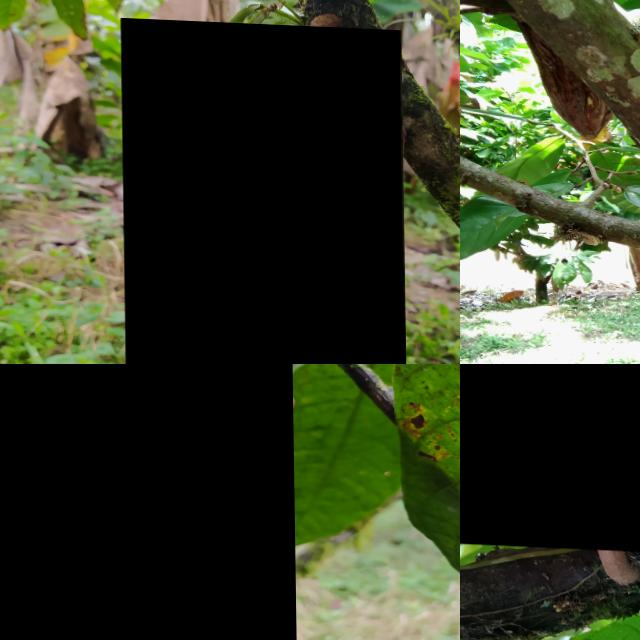Fitoftora: (0, 364, 295, 640), (460, 364, 640, 551)
Sana: (120, 16, 405, 364)
